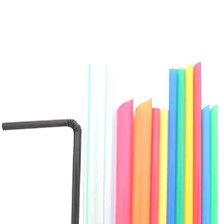drinking_straw: (0, 112, 88, 224), (113, 95, 136, 224)
